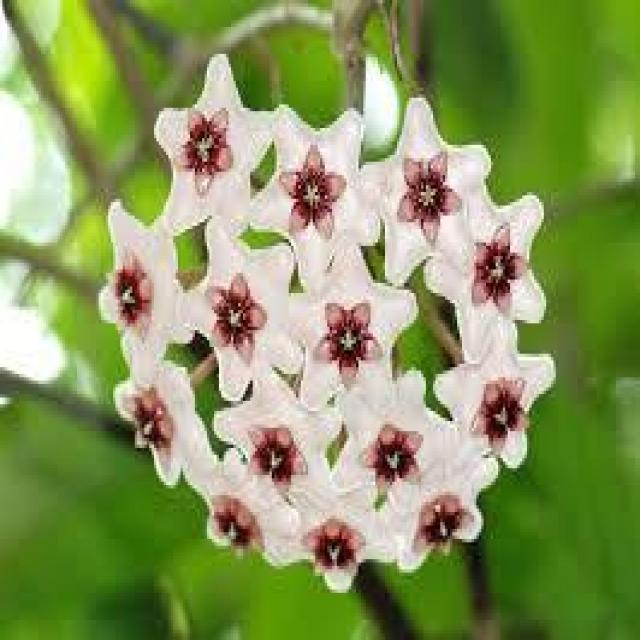organic waste: (90, 56, 569, 584)
